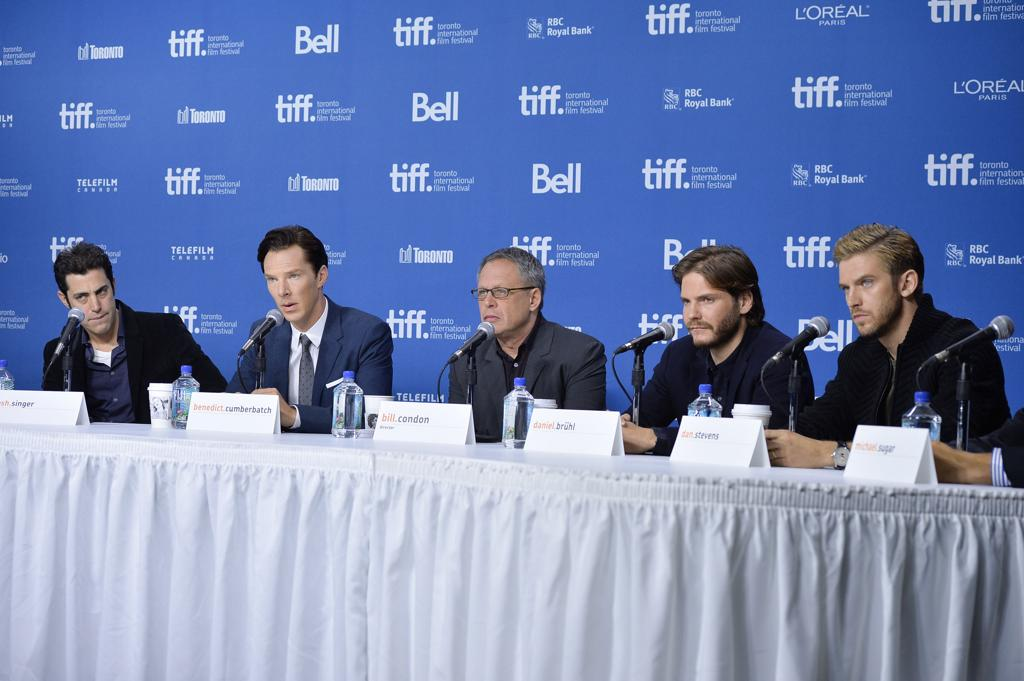face: (838, 258, 899, 336), (680, 273, 739, 348), (266, 246, 317, 323), (478, 261, 528, 335), (68, 270, 116, 335)
